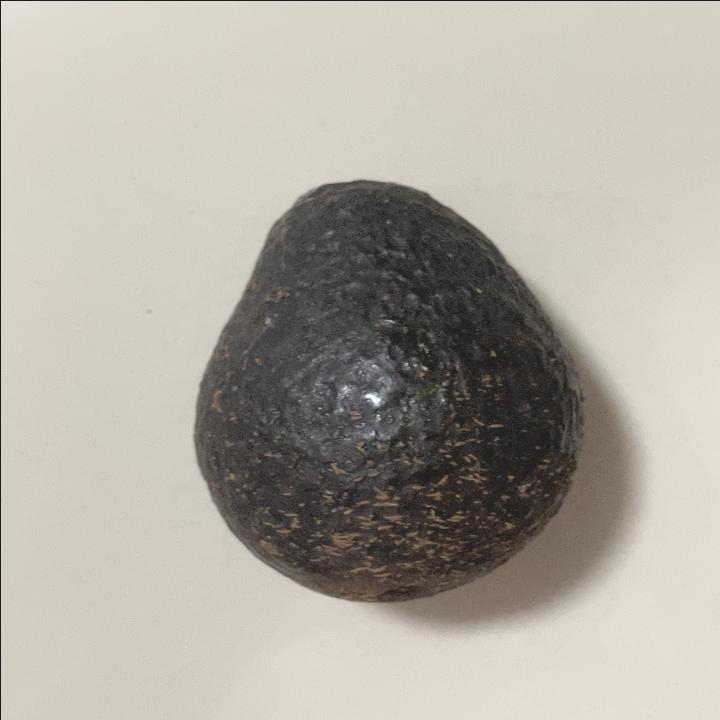Level3: (180, 166, 592, 610)
